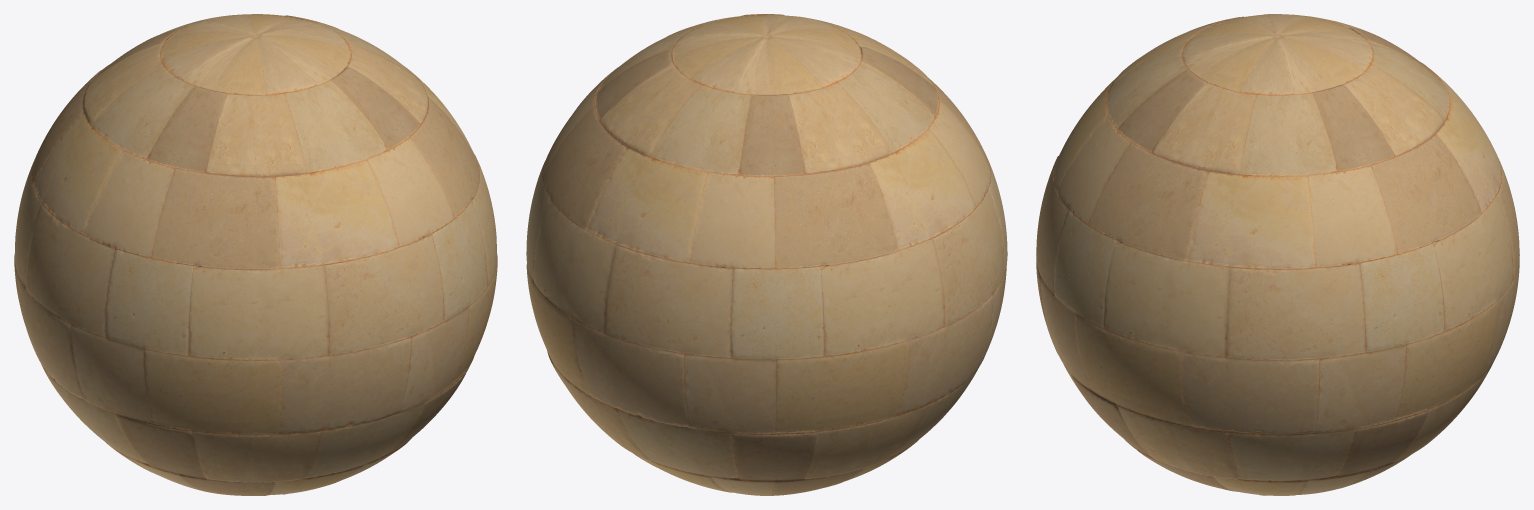
Rendered from floor_tiles_04_1k.gltf.
3 views of the same model, side by side, from view 1: azimuth 30°, elevation 25°; view 2: azimuth 150°, elevation 25°; view 3: azimuth 270°, elevation 25° (orthographic).
Visible parts, largest first — view 1: sphere_gltf; view 2: sphere_gltf; view 3: sphere_gltf.
Part boxes in pixels (left/top/right/bottom): sphere_gltf: left=14, top=14, right=497, bottom=495; sphere_gltf: left=526, top=14, right=1007, bottom=495; sphere_gltf: left=1036, top=14, right=1519, bottom=495.
Bounding box in the file's own units: 4.03 × 4.02 × 4.02.
Materials: 1 (1 with a texture image).
